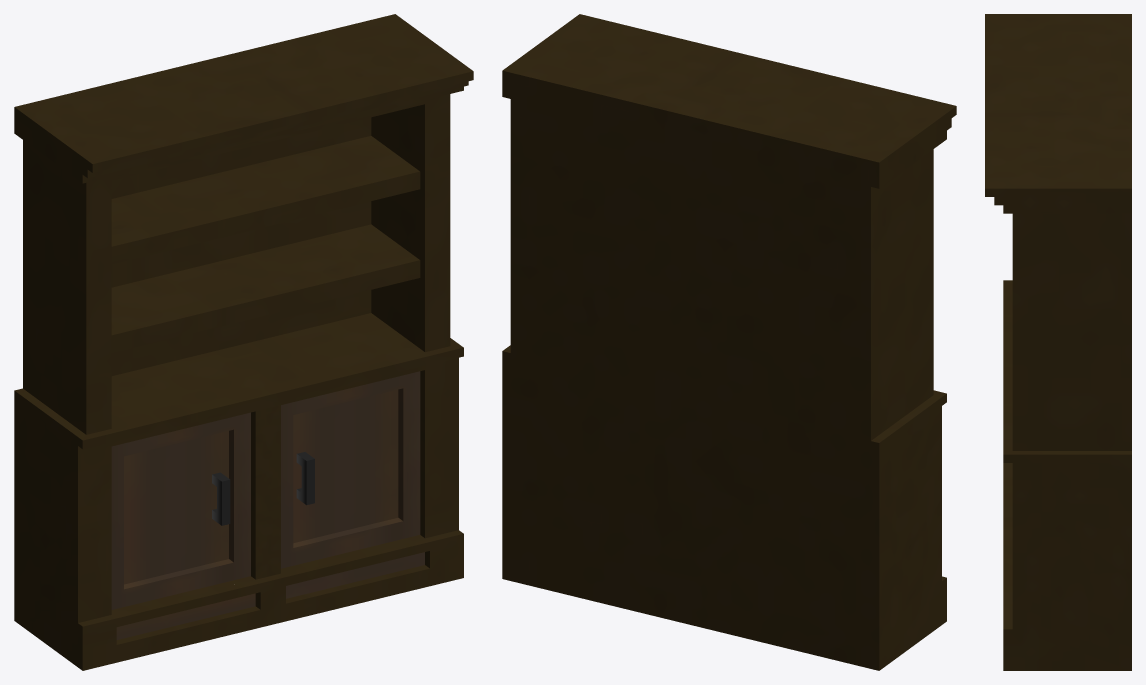
The model's file is bookshelf_alt_finalized_01.fbx.
The picture shows the model from 3 angles, left to right: view 1: azimuth 30°, elevation 25°; view 2: azimuth 150°, elevation 25°; view 3: azimuth 270°, elevation 25°; orthographic projection. The views are drawn at different scales.
Visible parts, largest first — view 1: bookshelf; view 2: bookshelf; view 3: bookshelf.
Boxes of the visible parts, bbox=[...] form: bookshelf: bbox=[14, 14, 473, 670]; bookshelf: bbox=[502, 14, 956, 670]; bookshelf: bbox=[985, 14, 1131, 670].
Size of the model in its own units: 4.5 by 5.8 by 1.6.
Materials: 3 (3 with a texture image).
